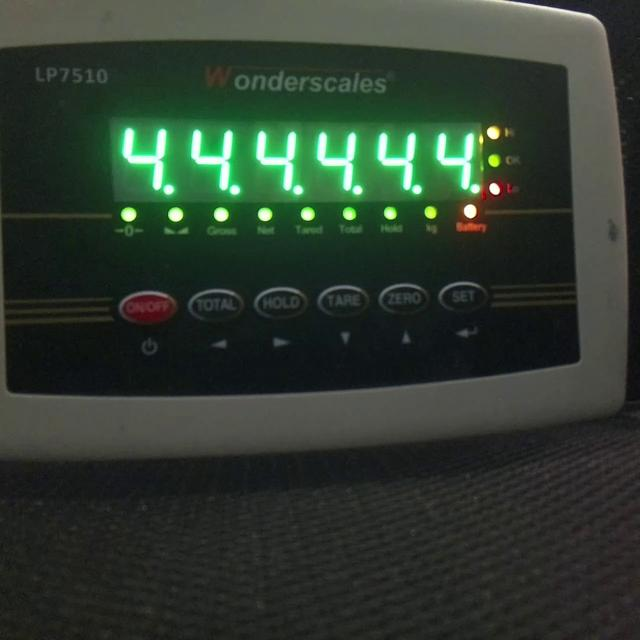.: (349, 182, 365, 198), (468, 182, 484, 198), (160, 183, 177, 198), (290, 183, 305, 198), (229, 183, 244, 197), (410, 182, 424, 195)
4: (314, 126, 360, 192), (191, 129, 236, 193), (122, 128, 167, 192), (256, 130, 299, 193), (376, 132, 416, 192), (436, 131, 475, 192)
